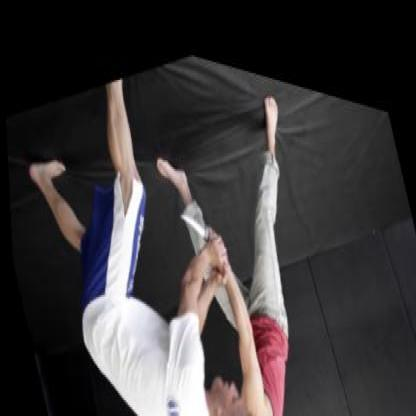knife: (174, 177, 226, 257)
